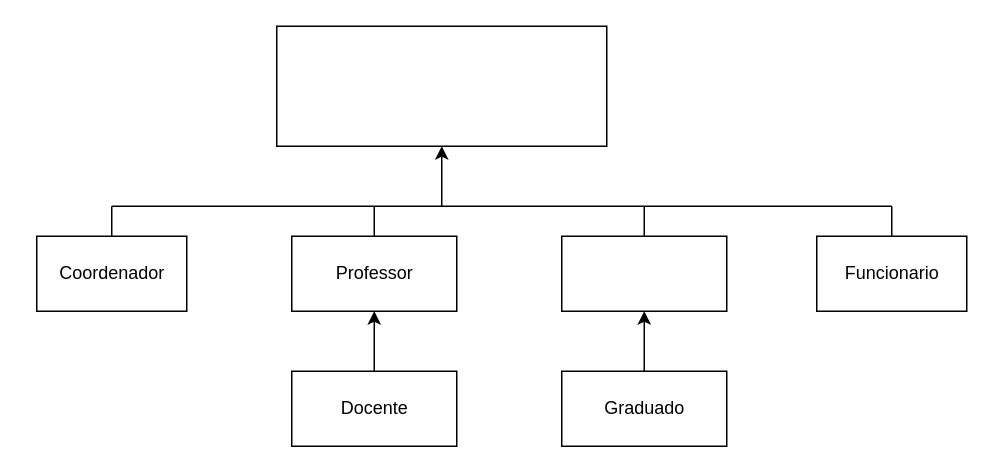
Image size: 993x473. Some labels were removed from this diagram. Here are the shapes that lost their labels. From the top down, the centre of each, then its label:
At [441,85]: "Membro_Da Comunidade_Academica".
At [643,273]: "Estudante".
